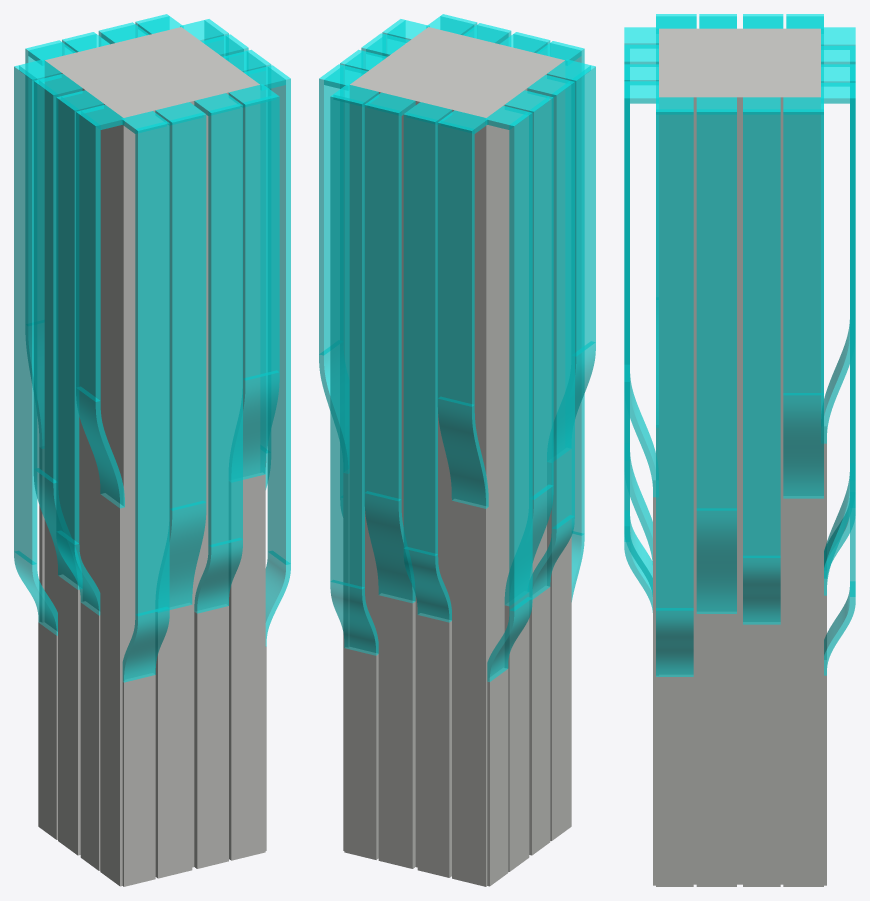
3 renders of one model, left to right at view 1: azimuth 30°, elevation 25°; view 2: azimuth 150°, elevation 25°; view 3: azimuth 270°, elevation 25°, orthographic. The views are drawn at different scales.
Parts seen in each view (by area): view 1: 默认; view 2: 默认; view 3: 默认.
Part boxes in pixels (<box>): 默认: <box>14,14,290,886</box>; 默认: <box>319,14,595,886</box>; 默认: <box>624,14,855,886</box>.
Size of the model in its own units: 40 by 150 by 40.
